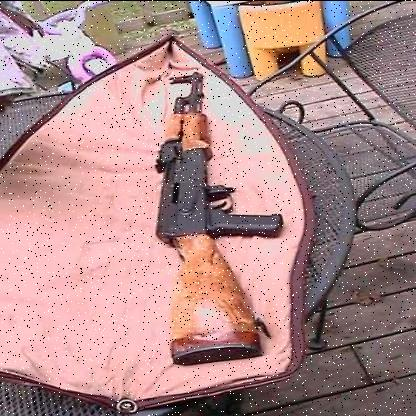rifle: (141, 47, 292, 378)
